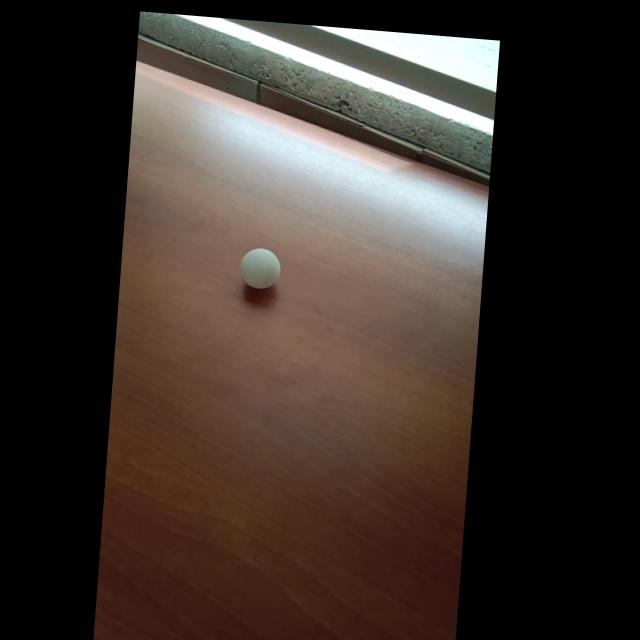white ball: (238, 246, 282, 291)
